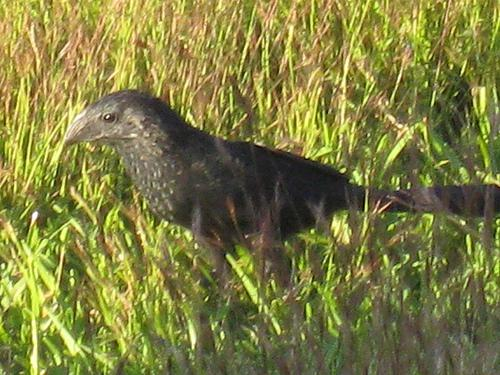004.Groove_billed_Ani: (64, 88, 500, 291)
